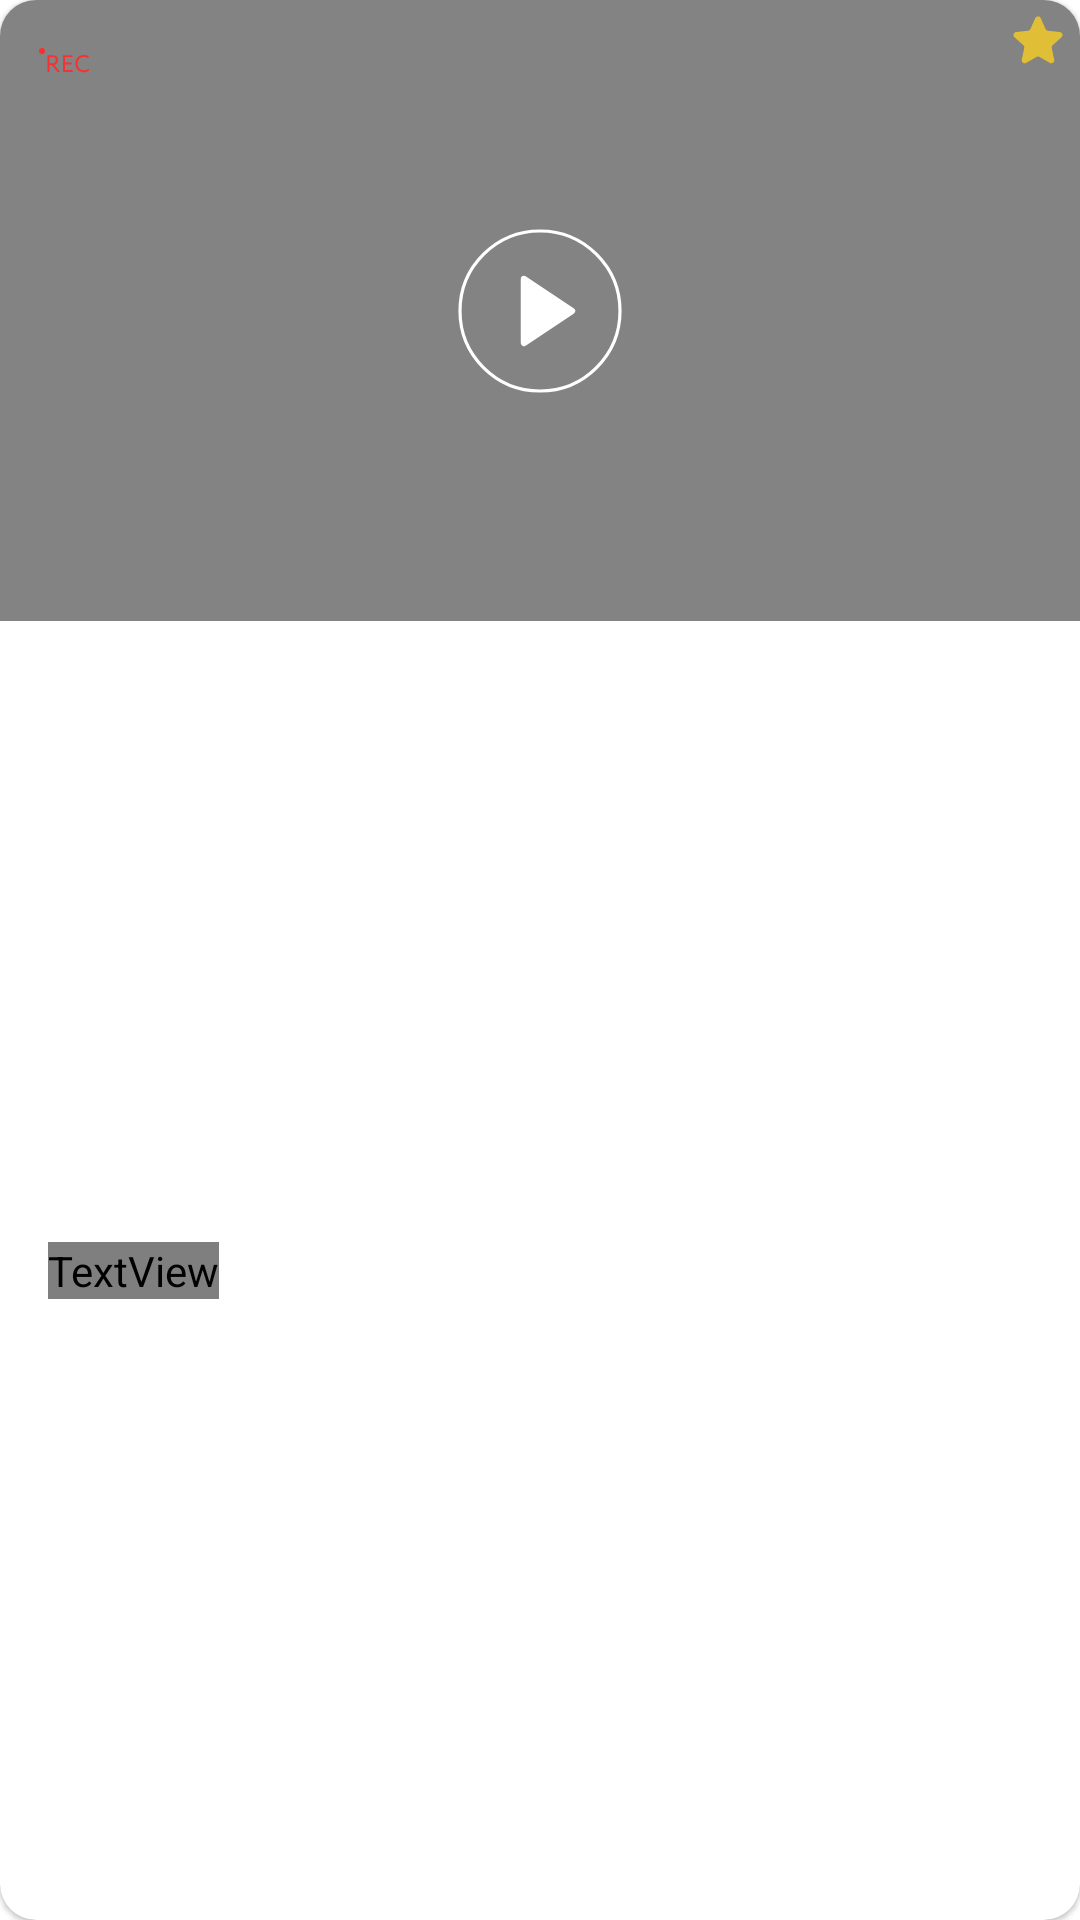

Where to tap for icons on this 1080px×1920px app screen, as (x,y):
play: (540,311)
star: (1038,39)
